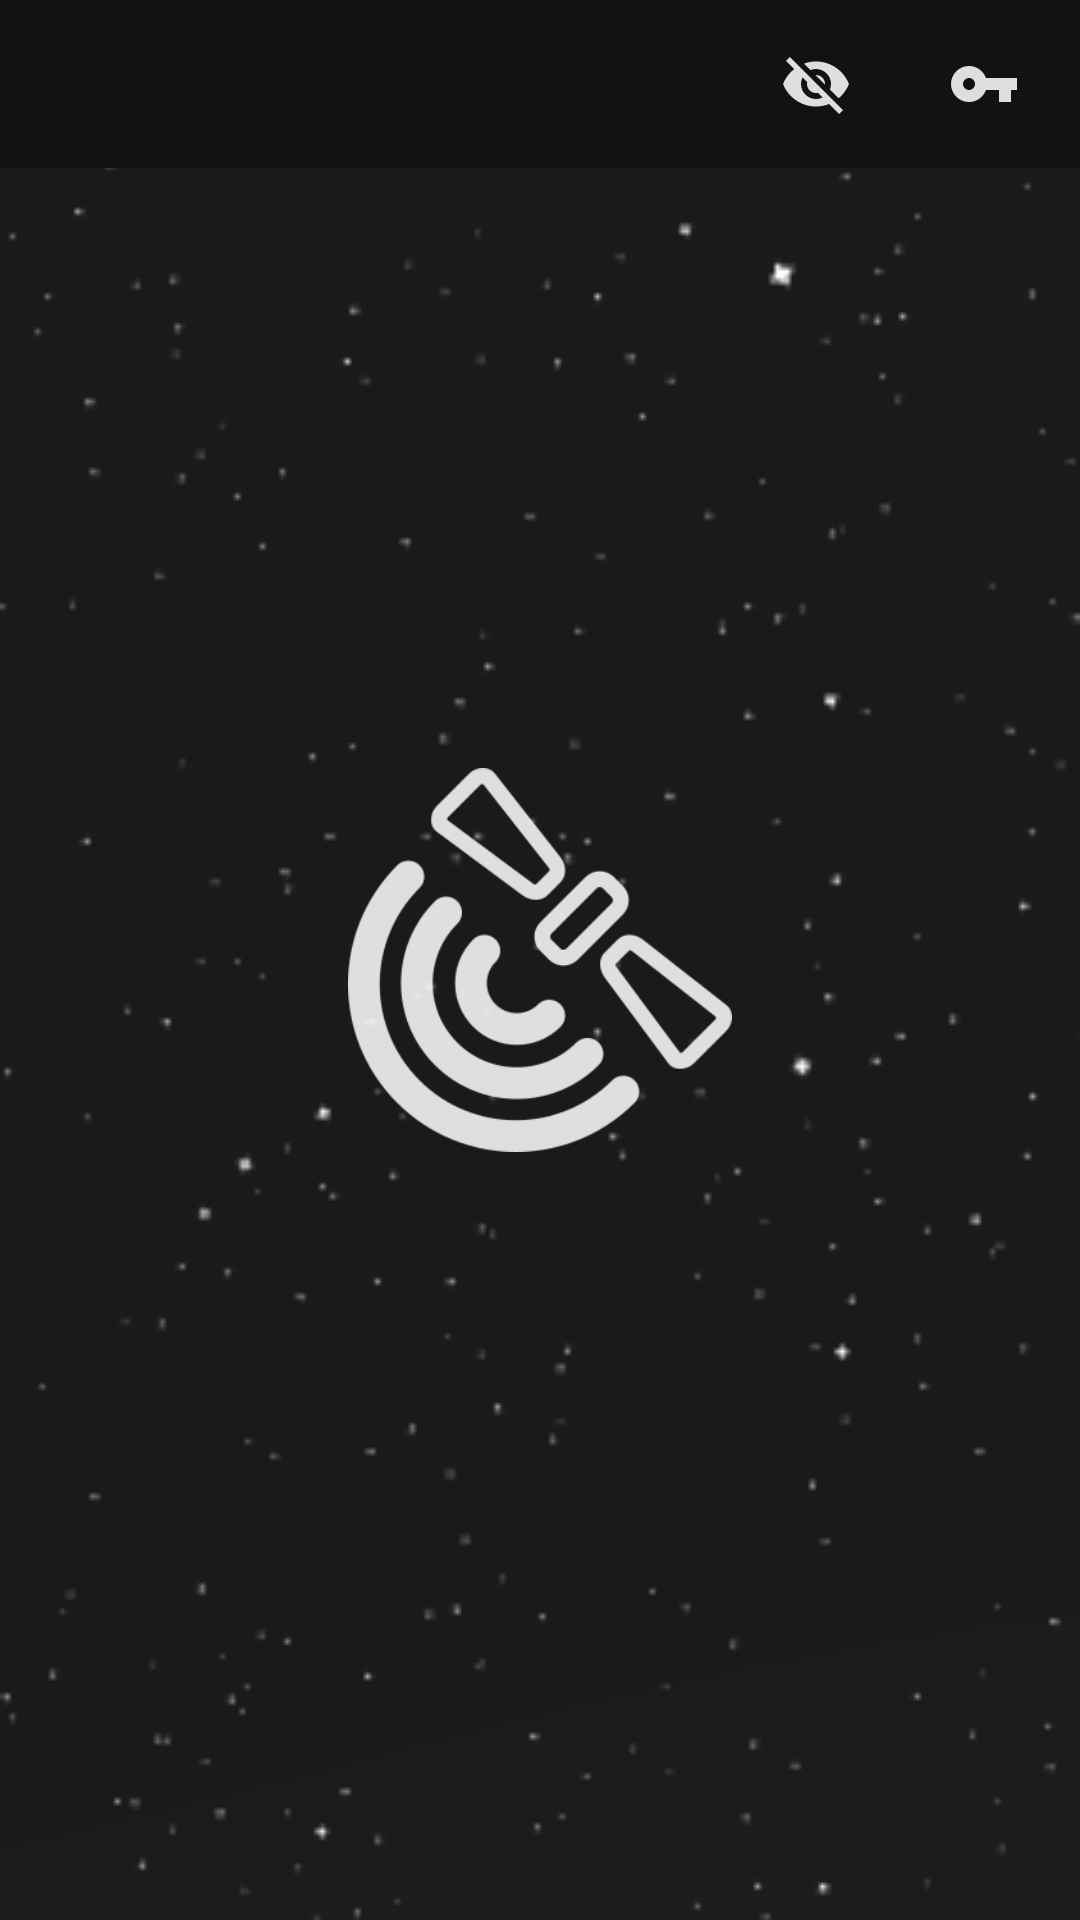

Point at icon controls on the screen. Image size 1080w x 1920h, points as (x=x, y=y).
visibility off: (x=816, y=85)
vpn key: (x=984, y=84)
